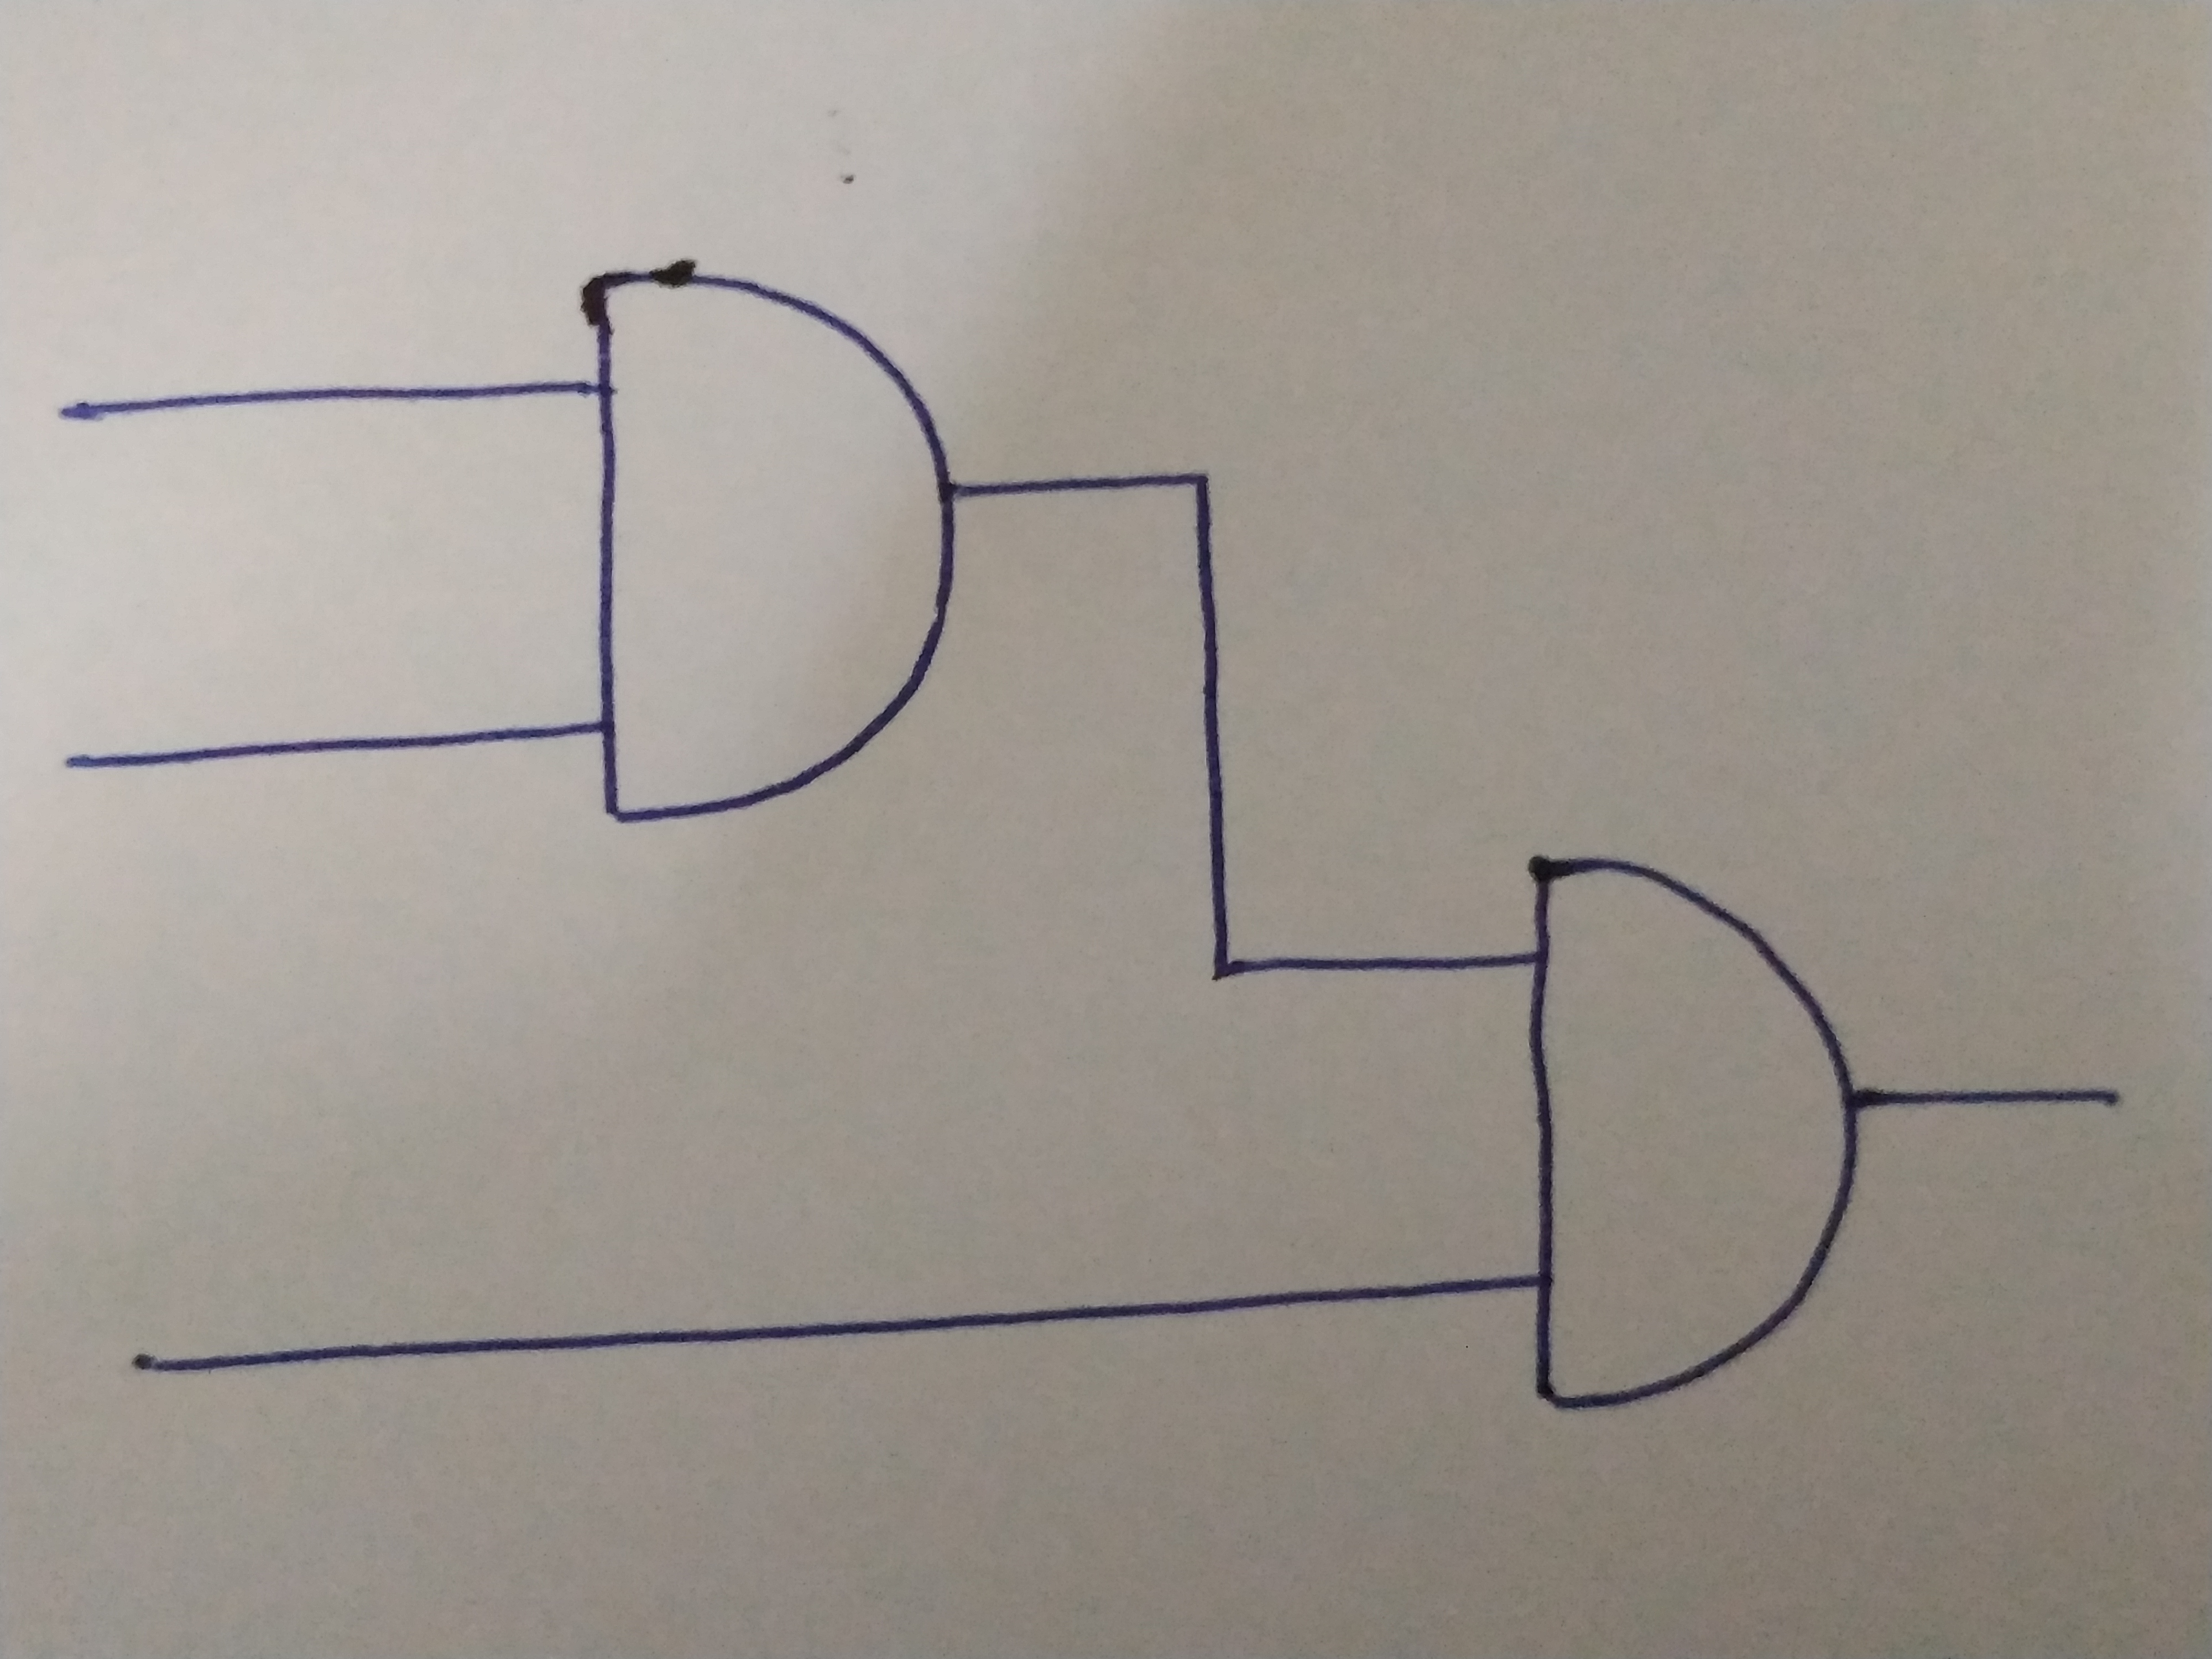and: (592, 263, 954, 824), (1533, 870, 1844, 1406)
